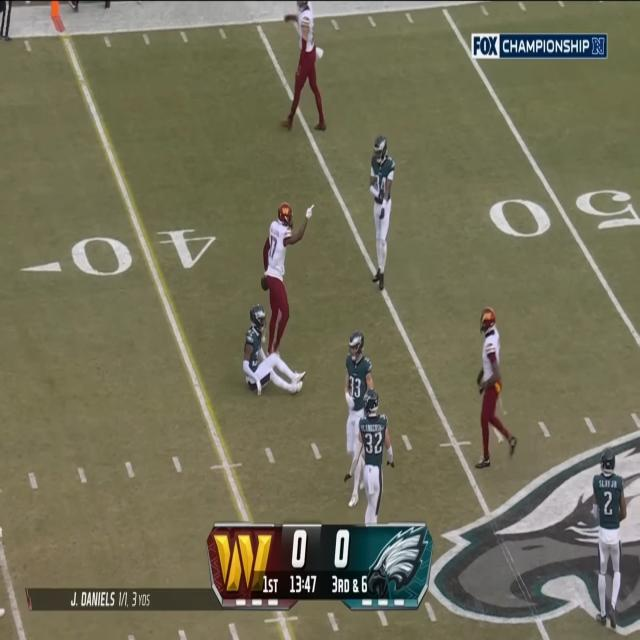Ball: (260, 276, 269, 291)
